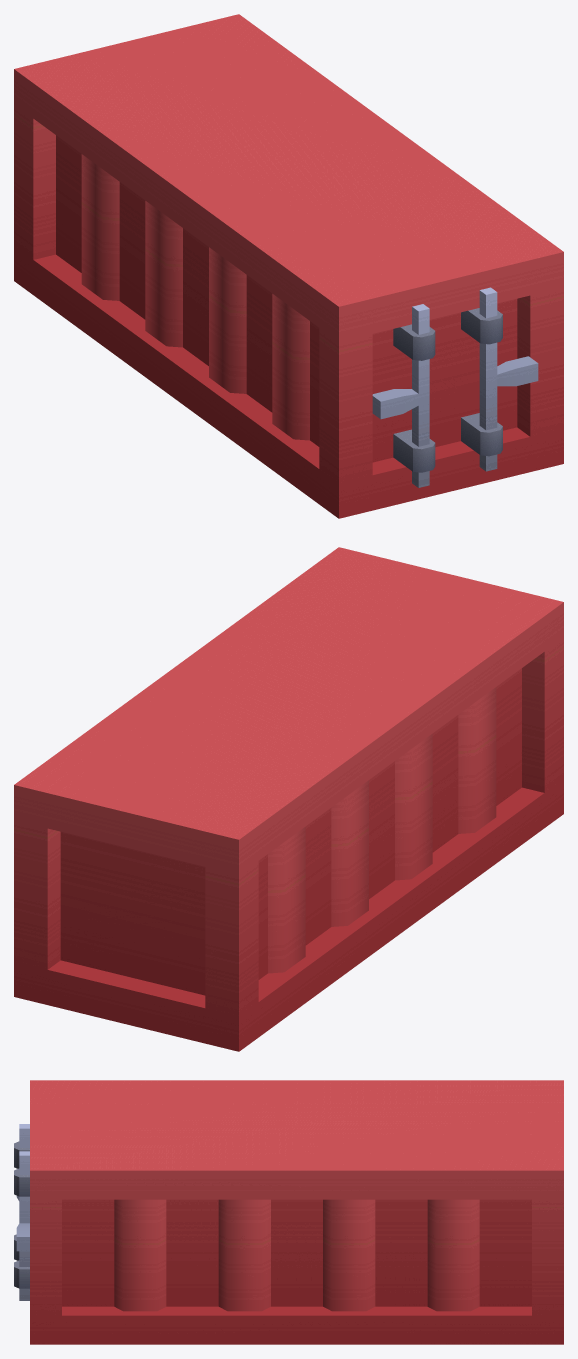
The model's file is cargo.002_lev2.glb.
3 renders of one model, top to bottom at view 1: azimuth 30°, elevation 25°; view 2: azimuth 150°, elevation 25°; view 3: azimuth 270°, elevation 25°, orthographic. The views are drawn at different scales.
Visible parts, largest first — view 1: cargo.002_lev2; view 2: cargo.002_lev2; view 3: cargo.002_lev2.
Boxes of the visible parts, x1,y1,x2,y2 form: cargo.002_lev2: [14, 14, 563, 518]; cargo.002_lev2: [14, 547, 563, 1051]; cargo.002_lev2: [14, 1080, 563, 1344].
Bounding box in the file's own units: 1 × 0.9 × 2.58.
1 material, 1 textured.
